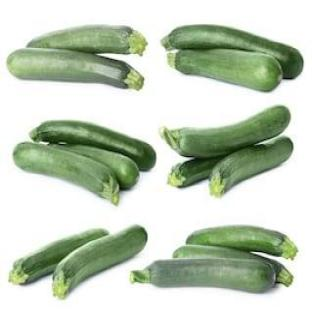Zucchini: (162, 26, 303, 77), (53, 226, 147, 298), (160, 106, 290, 158), (13, 143, 119, 205), (31, 120, 156, 170), (7, 48, 143, 89), (9, 228, 108, 284), (173, 245, 293, 286), (210, 137, 293, 196), (168, 50, 282, 91), (131, 260, 275, 292), (52, 144, 139, 189), (186, 226, 297, 259), (28, 26, 146, 55), (168, 156, 222, 187)
